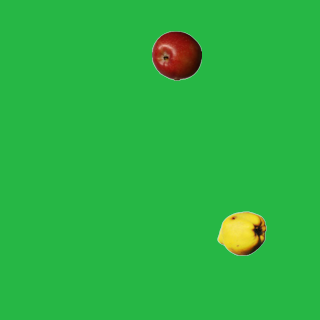Apple Braeburn: (151, 30, 201, 80)
Quince: (216, 208, 266, 258)
